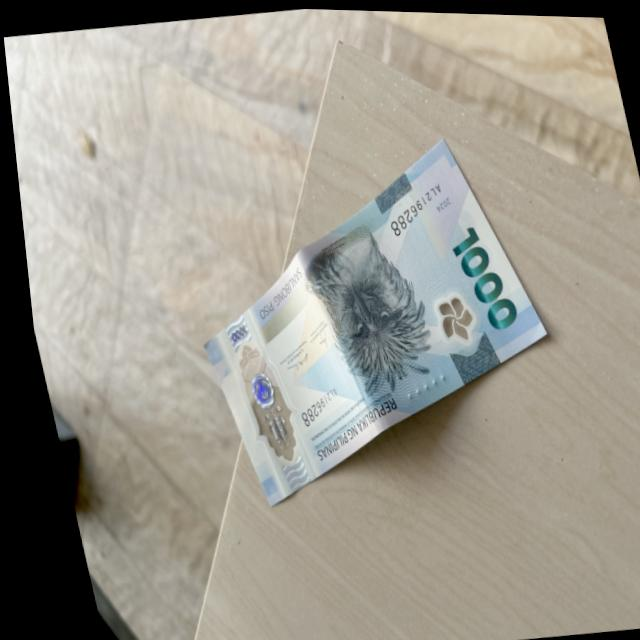clear_window: (214, 324, 300, 476)
eagle: (295, 214, 439, 389)
sampaguita: (424, 288, 471, 346)
